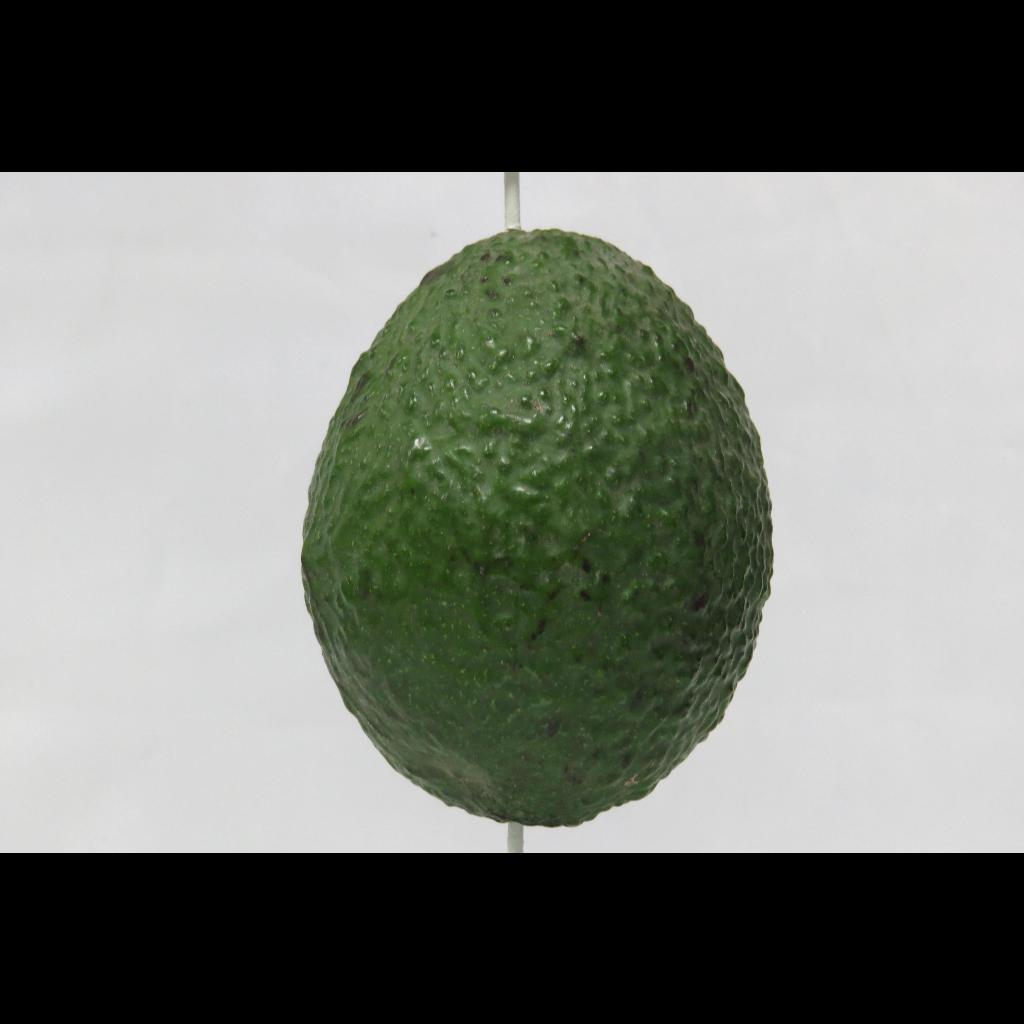Healthy: (292, 184, 784, 846)
